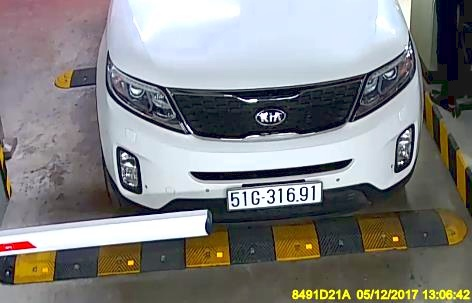plate: (224, 184, 325, 209)
